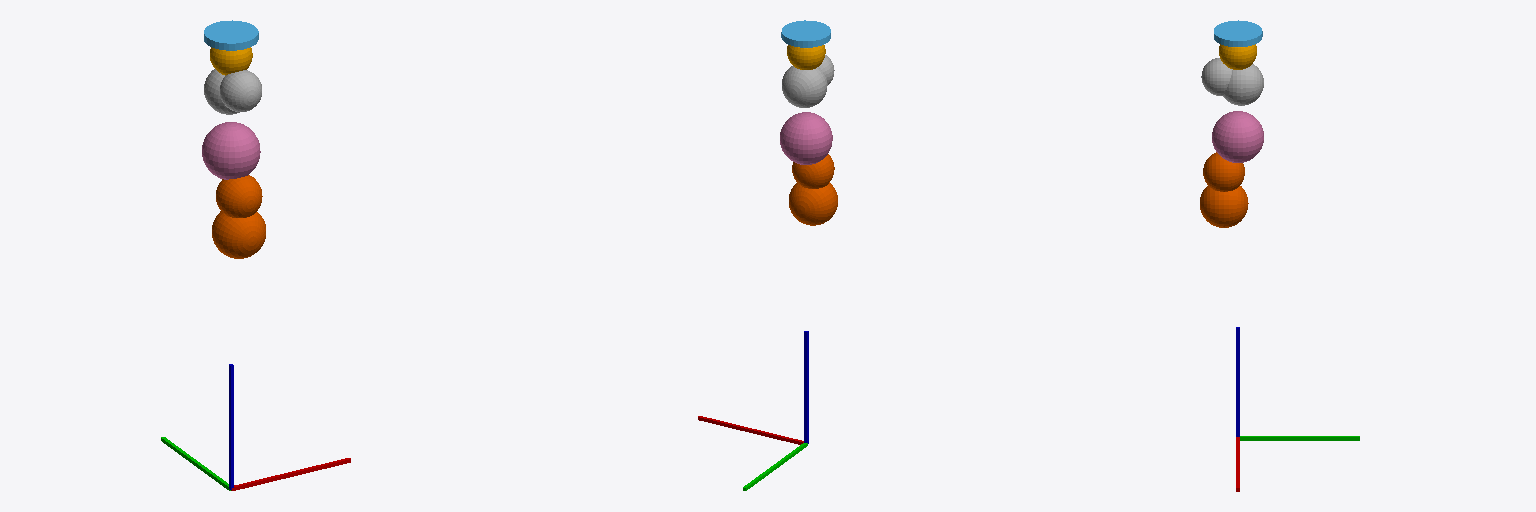
robot.urdf — iiwa7:
<?xml version="1.0" ?>
<!-- =================================================================================== -->
<!-- |    This document was autogenerated by xacro from iiwa_description/urdf/iiwa7.urdf.xacro | -->
<!-- |    EDITING THIS FILE BY HAND IS NOT RECOMMENDED                                 | -->
<!-- =================================================================================== -->
<robot name="iiwa7" xmlns:xacro="http://www.ros.org/wiki/xacro">
  <material name="Black">
    <color rgba="0.0 0.0 0.0 1.0"/>
  </material>
  <material name="Blue">
    <color rgba="0.0 0.0 0.8 1.0"/>
  </material>
  <material name="Green">
    <color rgba="0.0 0.8 0.0 1.0"/>
  </material>
  <material name="Grey">
    <color rgba="0.4 0.4 0.4 1.0"/>
  </material>
  <material name="Orange">
    <color rgba="1.0 0.423529411765 0.0392156862745 1.0"/>
  </material>
  <material name="Brown">
    <color rgba="0.870588235294 0.811764705882 0.764705882353 1.0"/>
  </material>
  <material name="Red">
    <color rgba="0.8 0.0 0.0 1.0"/>
  </material>
  <material name="White">
    <color rgba="1.0 1.0 1.0 1.0"/>
  </material>
  <!-- Fix to world just for testing -->
  <link name="base"/>
  <!--joint between {parent} and link_0-->
  <joint name="world_iiwa_joint" type="fixed">
    <origin rpy="0 0 0" xyz="0 0 0"/>
    <parent link="base"/>
    <child link="iiwa_link_0"/>
  </joint>
  <link name="iiwa_link_0">
    <inertial>
      <origin rpy="0 0 0" xyz="-0.1 0 0.07"/>
      <mass value="5"/>
      <inertia ixx="0.05" ixy="0" ixz="0" iyy="0.06" iyz="0" izz="0.03"/>
    </inertial>
    <visual>
      <origin rpy="0 0 0" xyz="0 0 0"/>
      <geometry>
        <mesh filename="../meshes/iiwa7/visual/link_0.stl"/>
      </geometry>
      <material name="Grey"/>
    </visual>
    <visual>
      <origin rpy="0 0 0" xyz="0.175 0 0"/>
      <geometry>
        <box size="0.35 0.01 0.01"/>
      </geometry>
      <material name="Red"/>
    </visual>
    <visual>
      <origin rpy="0 0 0" xyz="0 0.175 0"/>
      <geometry>
        <box size="0.01 0.35 0.01"/>
      </geometry>
      <material name="Green"/>
    </visual>
    <visual>
      <origin rpy="0 0 0" xyz="0 0 0.175"/>
      <geometry>
        <box size="0.01 0.01 0.35"/>
      </geometry>
      <material name="Blue"/>
    </visual>
  </link>
  <!-- joint between link_0 and link_1 -->
  <joint name="iiwa_joint_1" type="revolute">
    <parent link="iiwa_link_0"/>
    <child link="iiwa_link_1"/>
    <origin rpy="0 0 0" xyz="0 0 0.15"/>
    <axis xyz="0 0 1"/>
    <limit effort="300" lower="-2.96705972839" upper="2.96705972839" velocity="10"/>
    <safety_controller k_position="100" k_velocity="2" soft_lower_limit="-2.93215314335" soft_upper_limit="2.93215314335"/>
    <dynamics damping="0.5"/>
  </joint>
  <link name="iiwa_link_1">
    <inertial>
      <origin rpy="0 0 0" xyz="0 -0.03 0.12"/>
      <mass value="3.4525"/>
      <inertia ixx="0.02183" ixy="0" ixz="0" iyy="0.007703" iyz="-0.003887" izz="0.02083"/>
    </inertial>
    <visual>
      <origin rpy="0 0 0" xyz="0 0 0.0075"/>
      <geometry>
        <mesh filename="../meshes/iiwa7/visual/link_1.stl"/>
      </geometry>
      <material name="Orange"/>
    </visual>
  </link>
  <joint name="iiwa_joint_2" type="revolute">
    <parent link="iiwa_link_1"/>
    <child link="iiwa_link_2"/>
    <origin rpy="1.57079632679   0 3.14159265359" xyz="0 0 0.19"/>
    <axis xyz="0 0 1"/>
    <limit effort="300" lower="-2.09439510239" upper="2.09439510239" velocity="10"/>
    <safety_controller k_position="100" k_velocity="2" soft_lower_limit="-2.05948851735" soft_upper_limit="2.05948851735"/>
    <dynamics damping="0.5"/>
  </joint>
  <link name="iiwa_link_2">
    <inertial>
      <origin rpy="0 0 0" xyz="0.0003 0.059 0.042"/>
      <mass value="3.4821"/>
      <inertia ixx="0.02076" ixy="0" ixz="-0.003626" iyy="0.02179" iyz="0" izz="0.00779"/>
    </inertial>
    <visual>
      <origin rpy="0 0 0" xyz="0 0 0"/>
      <geometry>
        <mesh filename="../meshes/iiwa7/visual/link_2.stl"/>
      </geometry>
      <material name="Orange"/>
    </visual>
  </link>
  <joint name="iiwa_joint_3" type="revolute">
    <parent link="iiwa_link_2"/>
    <child link="iiwa_link_3"/>
    <origin rpy="1.57079632679 0 3.14159265359" xyz="0 0.21 0"/>
    <axis xyz="0 0 1"/>
    <limit effort="300" lower="-2.96705972839" upper="2.96705972839" velocity="10"/>
    <safety_controller k_position="100" k_velocity="2" soft_lower_limit="-2.93215314335" soft_upper_limit="2.93215314335"/>
    <dynamics damping="0.5"/>
  </joint>
  <link name="iiwa_link_3">
    <inertial>
      <origin rpy="0 0 0" xyz="0 0.03 0.13"/>
      <mass value="4.05623"/>
      <inertia ixx="0.03204" ixy="0" ixz="0" iyy="0.00972" iyz="0.006227" izz="0.03042"/>
    </inertial>
    <visual>
      <origin rpy="0 0 0" xyz="0 0 -0.026"/>
      <geometry>
        <mesh filename="../meshes/iiwa7/visual/link_3.stl"/>
      </geometry>
      <material name="Orange"/>
    </visual>
  </link>
  <joint name="iiwa_joint_4" type="revolute">
    <parent link="iiwa_link_3"/>
    <child link="iiwa_link_4"/>
    <origin rpy="1.57079632679 0 0" xyz="0 0 0.19"/>
    <axis xyz="0 0 1"/>
    <limit effort="300" lower="-2.09439510239" upper="2.09439510239" velocity="10"/>
    <safety_controller k_position="100" k_velocity="2" soft_lower_limit="-2.05948851735" soft_upper_limit="2.05948851735"/>
    <dynamics damping="0.5"/>
  </joint>
  <link name="iiwa_link_4">
    <inertial>
      <origin rpy="0 0 0" xyz="0 0.067 0.034"/>
      <mass value="3.4822"/>
      <inertia ixx="0.02178" ixy="0" ixz="0" iyy="0.02075" iyz="-0.003625" izz="0.007785"/>
    </inertial>
    <visual>
      <origin rpy="0 0 0" xyz="0 0 0"/>
      <geometry>
        <mesh filename="../meshes/iiwa7/visual/link_4.stl"/>
      </geometry>
      <material name="Orange"/>
    </visual>
    
    <visual>
      <origin rpy="0 0 0" xyz="0 0 0.04"/>
      <geometry>
        <sphere radius="0.07"/>
      </geometry>
    </visual>
    <visual>
      <origin rpy="0 0 0" xyz="0 0.1 0.04"/>
      <geometry>
        <sphere radius="0.06"/>
      </geometry>
    </visual>
    <collision>
      <origin rpy="0 0 0" xyz="0 0 0.04"/>
      <geometry>
        <sphere radius="0.07"/>
      </geometry>
    </collision>
    <collision>
      <origin rpy="0 0 0" xyz="0 0.1 0.04"/>
      <geometry>
        <sphere radius="0.06"/>
      </geometry>
    </collision>
  </link>
  <joint name="iiwa_joint_5" type="revolute">
    <parent link="iiwa_link_4"/>
    <child link="iiwa_link_5"/>
    <origin rpy="-1.57079632679 3.14159265359 0" xyz="0 0.21 0"/>
    <axis xyz="0 0 1"/>
    <limit effort="300" lower="-2.96705972839" upper="2.96705972839" velocity="10"/>
    <safety_controller k_position="100" k_velocity="2" soft_lower_limit="-2.93215314335" soft_upper_limit="2.93215314335"/>
    <dynamics damping="0.5"/>
  </joint>
  <link name="iiwa_link_5">
    <inertial>
      <origin rpy="0 0 0" xyz="0.0001 0.021 0.076"/>
      <mass value="2.1633"/>
      <inertia ixx="0.01287" ixy="0" ixz="0" iyy="0.005708" iyz="-0.003946" izz="0.01112"/>
    </inertial>
    <visual>
      <origin rpy="0 0 0" xyz="0 0 -0.026"/>
      <geometry>
        <mesh filename="../meshes/iiwa7/visual/link_5.stl"/>
      </geometry>
      <material name="Orange"/>
    </visual>
    <visual>
      <origin rpy="0 0 0" xyz="0 0 0.0"/>
      <geometry>
        <sphere radius="0.075"/>
      </geometry>
    </visual>
    <collision>
      <origin rpy="0 0 0" xyz="0 0 0.0"/>
      <geometry>
        <sphere radius="0.075"/>
      </geometry>
    </collision>
  </link>
  <joint name="iiwa_joint_6" type="revolute">
    <parent link="iiwa_link_5"/>
    <child link="iiwa_link_6"/>
    <origin rpy="1.57079632679 0 0" xyz="0 0.06070 0.19"/>
    <axis xyz="0 0 1"/>
    <limit effort="300" lower="-2.09439510239" upper="2.09439510239" velocity="10"/>
    <safety_controller k_position="100" k_velocity="2" soft_lower_limit="-2.05948851735" soft_upper_limit="2.05948851735"/>
    <dynamics damping="0.5"/>
  </joint>
  <link name="iiwa_link_6">
    <inertial>
      <origin rpy="0 0 0" xyz="0 0.0006 0.0004"/>
      <mass value="2.3466"/>
      <inertia ixx="0.006509" ixy="0" ixz="0" iyy="0.006259" iyz="0.00031891" izz="0.004527"/>
    </inertial>
    <visual>
      <origin rpy="0 0 0" xyz="0 0 0"/>
      <geometry>
        <mesh filename="../meshes/iiwa7/visual/link_6.stl"/>
      </geometry>
      <material name="Orange"/>
    </visual>

    <visual>
      <origin rpy="0 0 0" xyz="0 -0.02 0.07"/>
      <geometry>
        <sphere radius="0.065"/>
      </geometry>
    </visual>
    <visual>
      <origin rpy="0 0 0" xyz="0 0 0.011"/>
      <geometry>
        <sphere radius="0.055"/>
      </geometry>
    </visual>
    <collision>
      <origin rpy="0 0 0" xyz="0 -0.02 0.07"/>
      <geometry>
        <sphere radius="0.065"/>
      </geometry>
    </collision>
    <collision>
      <origin rpy="0 0 0" xyz="0 0 0.011"/>
      <geometry>
        <sphere radius="0.055"/>
      </geometry>
    </collision>
  </link>
  <joint name="iiwa_joint_7" type="revolute">
    <parent link="iiwa_link_6"/>
    <child link="iiwa_link_7"/>
    <origin rpy="-1.57079632679 3.14159265359 0" xyz="0 0.081 0.06070"/>
    <axis xyz="0 0 1"/>
    <limit effort="300" lower="-3.05432619099" upper="3.05432619099" velocity="10"/>
    <safety_controller k_position="100" k_velocity="2" soft_lower_limit="-3.01941960595" soft_upper_limit="3.01941960595"/>
    <dynamics damping="0.5"/>
  </joint>
  <link name="iiwa_link_7">
    <inertial>
      <origin rpy="0 0 0" xyz="0 0 0.02"/>
      <mass value="3.129"/>
      <inertia ixx="0.01464" ixy="0.0005912" ixz="0" iyy="0.01465" iyz="0" izz="0.002872"/>
    </inertial>
    <visual>
      <origin rpy="0 0 0" xyz="0 0 -0.0005"/>
      <geometry>
        <mesh filename="../meshes/iiwa7/visual/link_7.stl"/>
      </geometry>
      <material name="Grey"/>
    </visual>
    <collision>
      <geometry>
        <sphere radius="0.055"/>
      </geometry>
    </collision>
    <visual>
      <geometry>
        <sphere radius="0.055"/>
      </geometry>
    </visual>
  </link>
  <joint name="iiwa_joint_ee" type="fixed">
    <parent link="iiwa_link_7"/>
    <child link="iiwa_link_ee"/>
    <origin rpy="0 0 0" xyz="0 0 0.045"/>
  </joint>
  <link name="iiwa_link_ee">
    <visual>
      <origin rpy="0 0 0" xyz="0 0 0.009"/>
      <geometry>
        <cylinder length="0.02" radius="0.07"/>
      </geometry>
    </visual>
    <collision>
      <origin rpy="0 0 0" xyz="0 0 0.009"/>
      <geometry>
        <cylinder length="0.02" radius="0.07"/>
      </geometry>
    </collision>
  </link>
</robot>

--- Facts derived from the render (not from the file) ---
Views: 3 orthographic renders of the robot side by side, from view 1: azimuth 30°, elevation 25°; view 2: azimuth 150°, elevation 25°; view 3: azimuth 270°, elevation 25°.
Robot: iiwa7 — 10 links, 9 joints (7 revolute, 2 fixed); root link base; default pose: all joints at 0.
Links seen in each view (by area): view 1: iiwa_link_4, iiwa_link_5, iiwa_link_6, iiwa_link_0, iiwa_link_ee, iiwa_link_7; view 2: iiwa_link_4, iiwa_link_5, iiwa_link_6, iiwa_link_0, iiwa_link_ee, iiwa_link_7; view 3: iiwa_link_4, iiwa_link_5, iiwa_link_6, iiwa_link_0, iiwa_link_ee, iiwa_link_7.
Boxes of the visible links, box(x1,y1,x2,y2) form: iiwa_link_4: box(212, 175, 265, 258); iiwa_link_5: box(202, 122, 260, 179); iiwa_link_6: box(204, 69, 261, 114); iiwa_link_0: box(161, 364, 350, 490); iiwa_link_ee: box(204, 20, 258, 50); iiwa_link_7: box(210, 47, 252, 75); iiwa_link_4: box(789, 154, 837, 225); iiwa_link_5: box(780, 112, 832, 164); iiwa_link_6: box(782, 55, 834, 107); iiwa_link_0: box(698, 331, 808, 490); iiwa_link_ee: box(781, 20, 830, 47); iiwa_link_7: box(787, 45, 825, 69); iiwa_link_4: box(1200, 152, 1248, 227); iiwa_link_5: box(1212, 111, 1263, 162); iiwa_link_6: box(1201, 58, 1263, 105); iiwa_link_0: box(1236, 327, 1359, 491); iiwa_link_ee: box(1214, 20, 1262, 46); iiwa_link_7: box(1219, 44, 1256, 69).
Bounding box of the posed robot: 0.425 × 0.46 × 1.29 m (x, y, z).
0 mesh visuals loaded from 8 distinct referenced files (none loaded); not drawn: 8 (reference not matched to a file when rendering).
